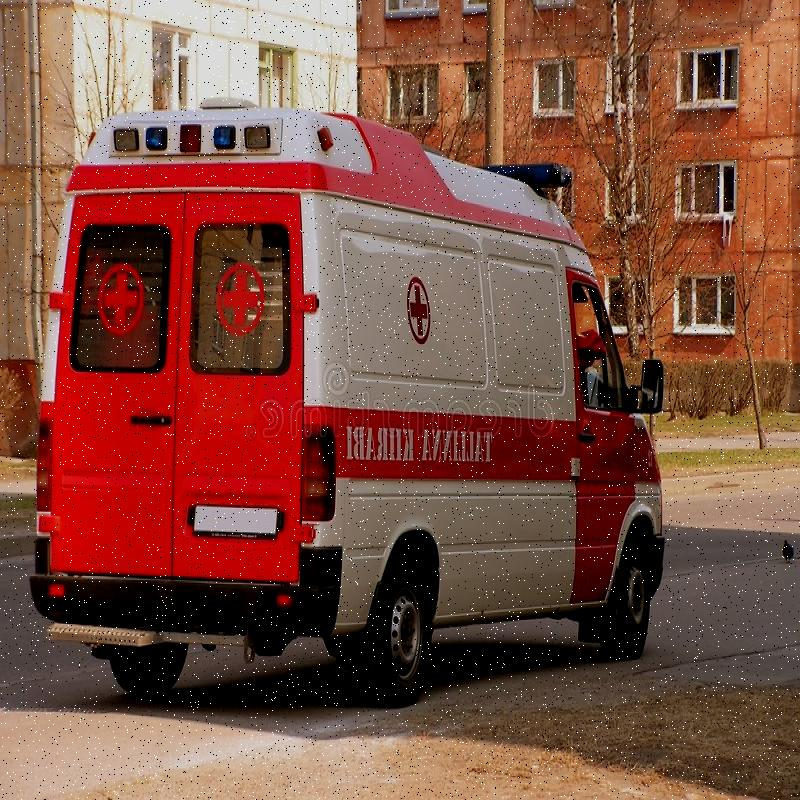ambulance: (22, 99, 685, 705)
